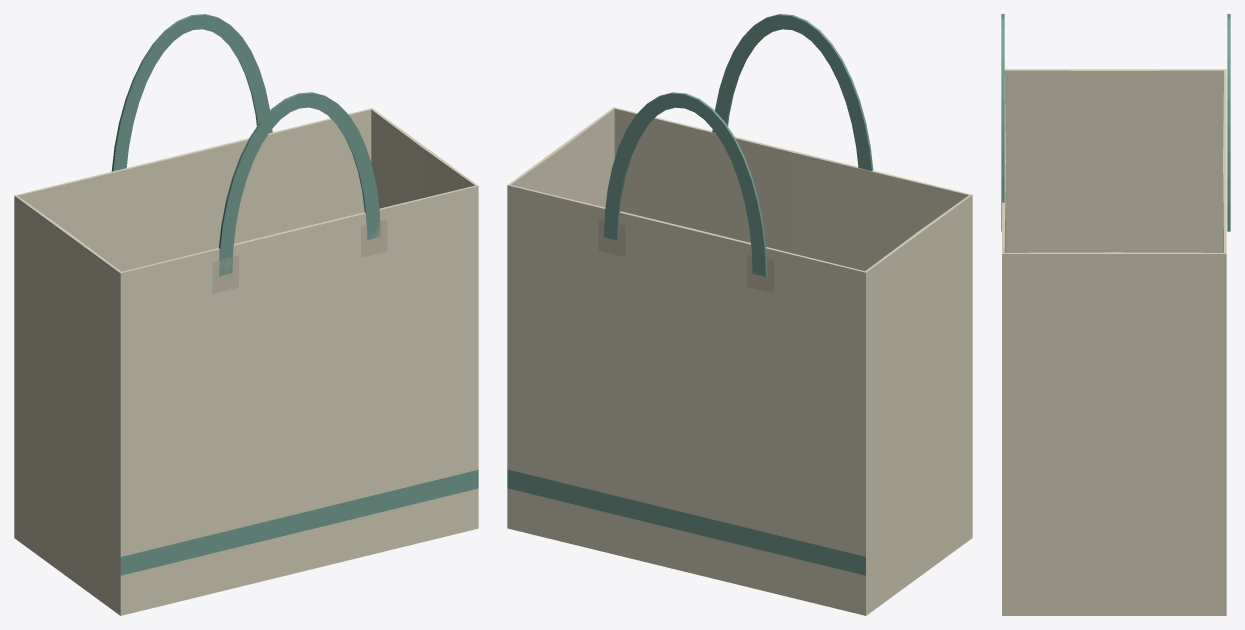
Rendered from shopping_bag.glb.
3 renders of one model, left to right at view 1: azimuth 30°, elevation 25°; view 2: azimuth 150°, elevation 25°; view 3: azimuth 270°, elevation 25°, orthographic. The views are drawn at different scales.
Parts seen in each view (by area): view 1: CreasedPaperBody, CottonTapeHandle.001, CottonTapeHandle, HandleAnchor.002, HandleAnchor.003; view 2: CreasedPaperBody, CottonTapeHandle, CottonTapeHandle.001, HandleAnchor.001, HandleAnchor; view 3: CreasedPaperBody, CottonTapeHandle, CottonTapeHandle.001.
Part boxes in pixels (x1,y1,x2,y2): CreasedPaperBody: (14,108,478,615); CottonTapeHandle.001: (219,92,380,276); CottonTapeHandle: (111,14,272,171); HandleAnchor.002: (212,255,238,293); HandleAnchor.003: (361,219,387,257); CreasedPaperBody: (507,107,972,615); CottonTapeHandle: (604,92,767,276); CottonTapeHandle.001: (712,14,873,171); HandleAnchor.001: (598,218,625,256); HandleAnchor: (747,255,773,293); CreasedPaperBody: (1002,69,1226,615); CottonTapeHandle: (1227,14,1230,231); CottonTapeHandle.001: (1001,14,1004,231).
Bounding box in the file's own units: 0.7 × 0.893 × 0.367.
